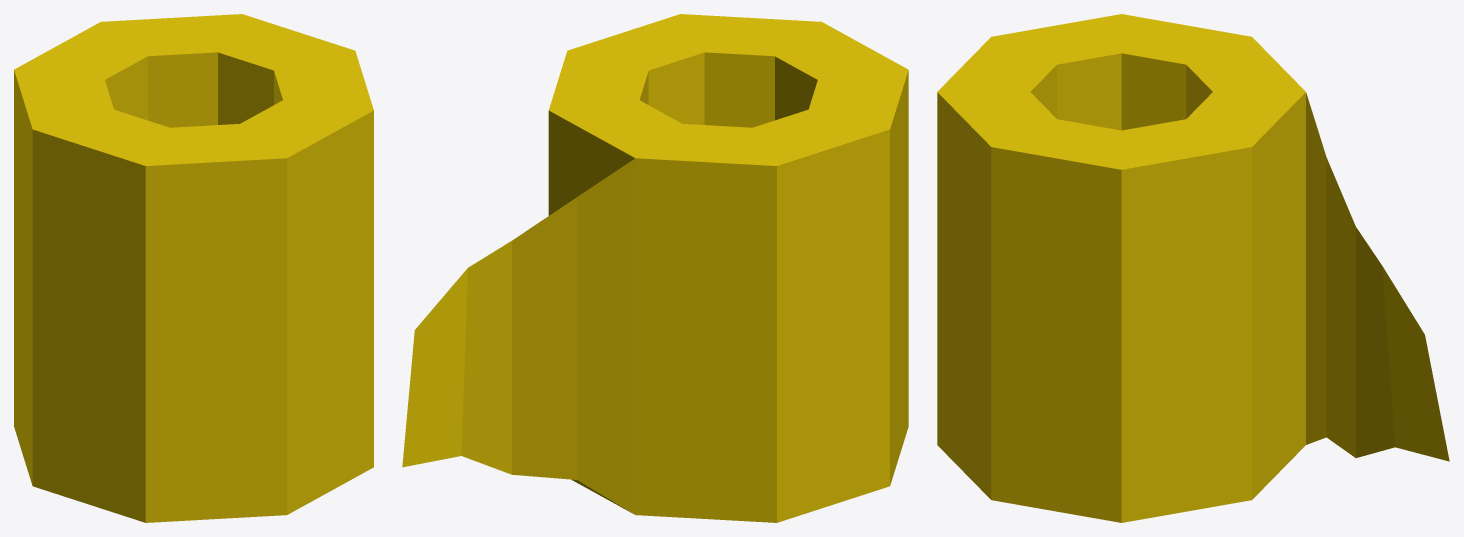
Rendered from Tissue.fbx.
The picture shows the model from 3 angles, left to right: view 1: azimuth 30°, elevation 25°; view 2: azimuth 150°, elevation 25°; view 3: azimuth 270°, elevation 25°; orthographic projection.
Visible parts, largest first — view 1: normal; view 2: normal, more; view 3: normal, more.
Part boxes in pixels (x1,y1,x2,y2): normal: (14,14,373,522); normal: (548,14,908,522); more: (402,158,635,514); normal: (937,14,1305,522); more: (1306,92,1449,461).
Size of the model in its own units: 219 by 231 by 304.
